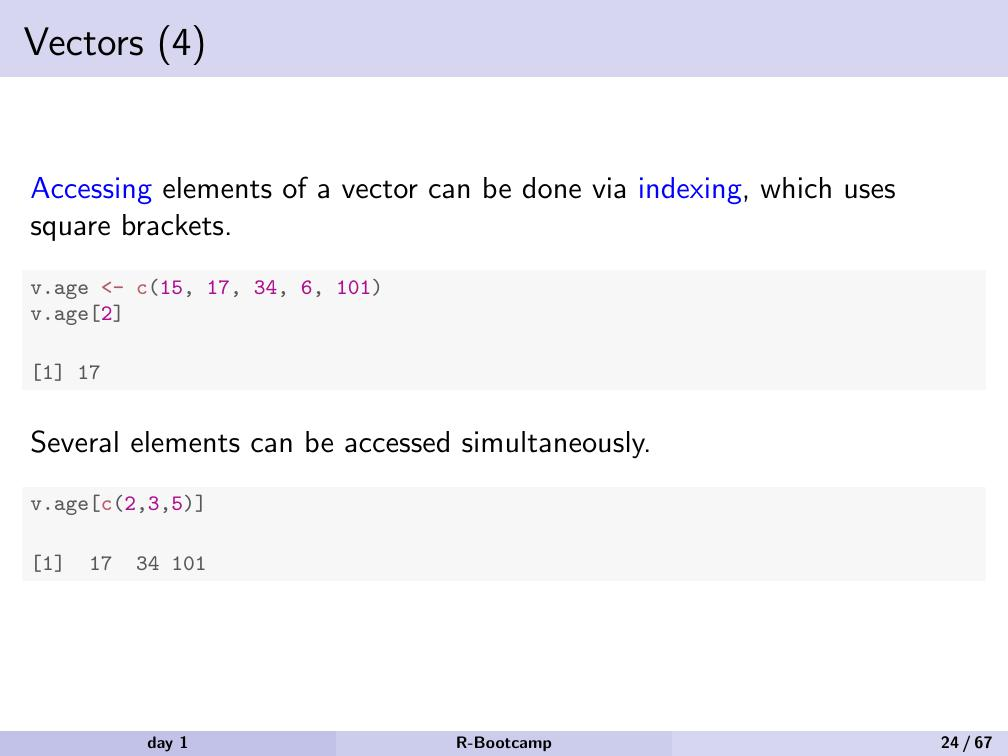Title: (17, 15, 214, 73)
